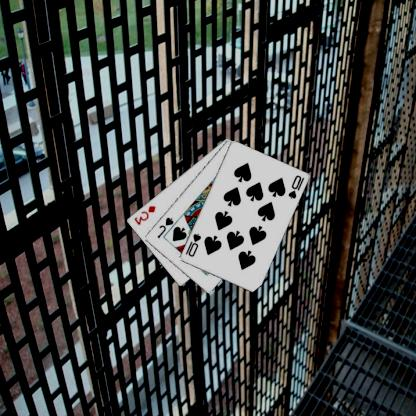10S: (287, 172, 307, 200), (184, 231, 204, 258)
3D: (133, 204, 159, 226)
JS: (156, 214, 177, 239)
